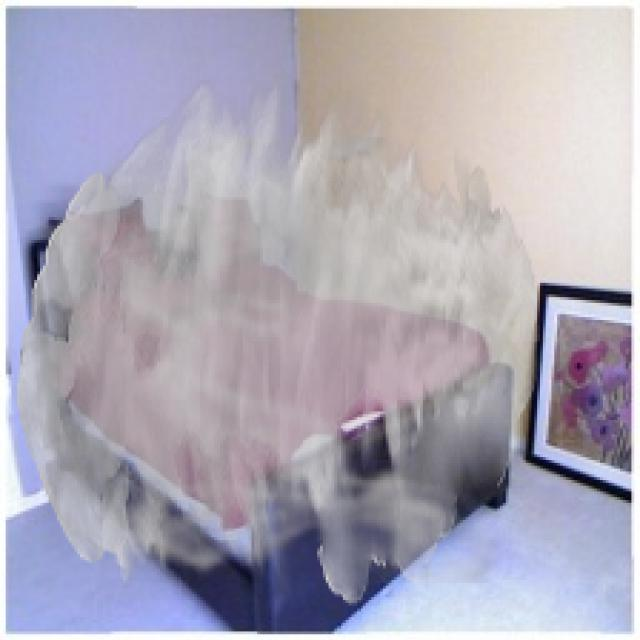smoke: (17, 74, 540, 606)
